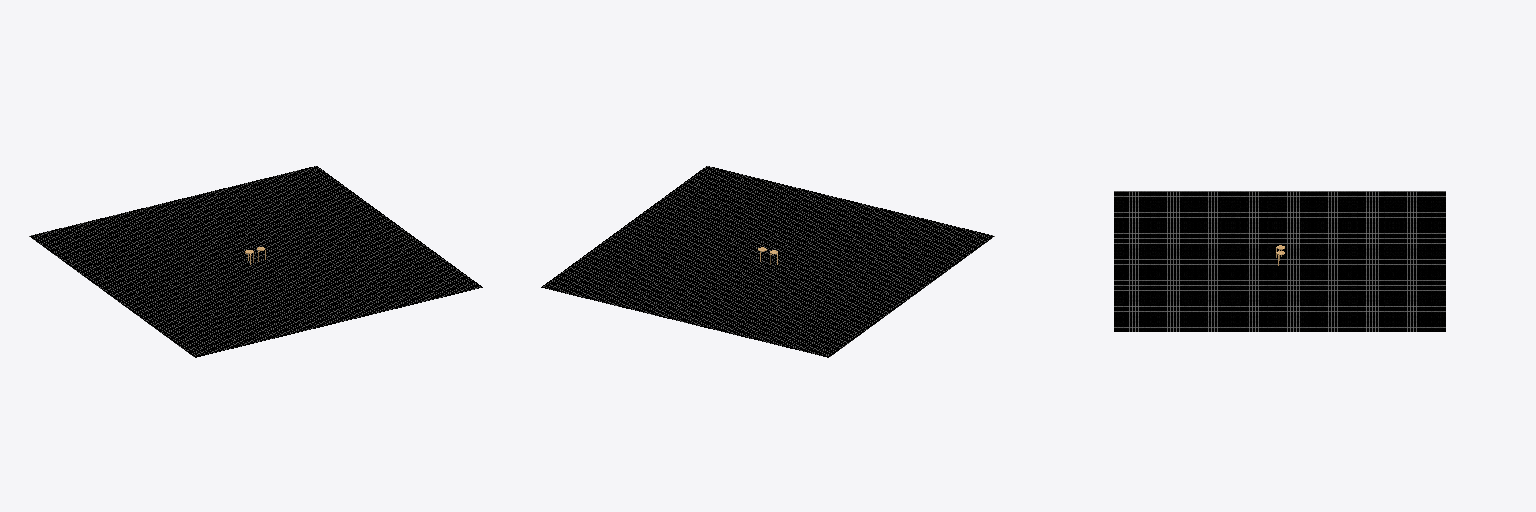
3 views of the same model, side by side, from view 1: azimuth 30°, elevation 25°; view 2: azimuth 150°, elevation 25°; view 3: azimuth 270°, elevation 25° (orthographic).
Visible parts, largest first — view 1: Plane001; view 2: Plane001; view 3: Plane001.
Part boxes in pixels (x1,y1,x2,y2): Plane001: (29,166,482,357); Plane001: (541,166,994,357); Plane001: (1114,191,1445,331).
Size of the model in its own units: 62.77 by 2.41 by 62.77.
Materials: 3 (3 with a texture image).